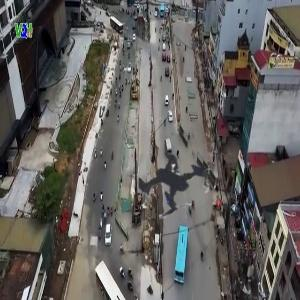drone: (75, 86, 277, 288)
